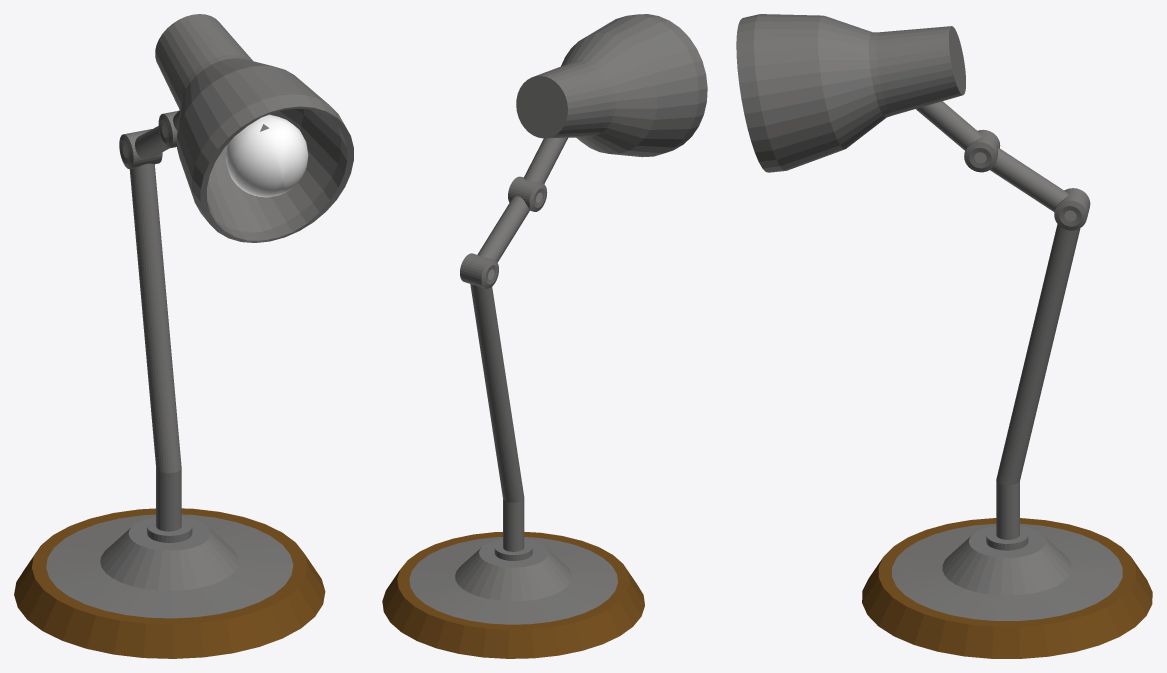
File: Desk_Lamp_OFF.fbx
3 renders of one model, left to right at view 1: azimuth 30°, elevation 25°; view 2: azimuth 150°, elevation 25°; view 3: azimuth 270°, elevation 25°, orthographic. The views are drawn at different scales.
Parts seen in each view (by area): view 1: Cylinder.009; view 2: Cylinder.009; view 3: Cylinder.009.
Boxes of the visible parts, x1=… form: Cylinder.009: x1=14, y1=14, x2=353, y2=658; Cylinder.009: x1=382, y1=14, x2=707, y2=658; Cylinder.009: x1=736, y1=14, x2=1152, y2=658.
Bounding box in the file's own units: 36.39 × 78.29 × 52.14.
